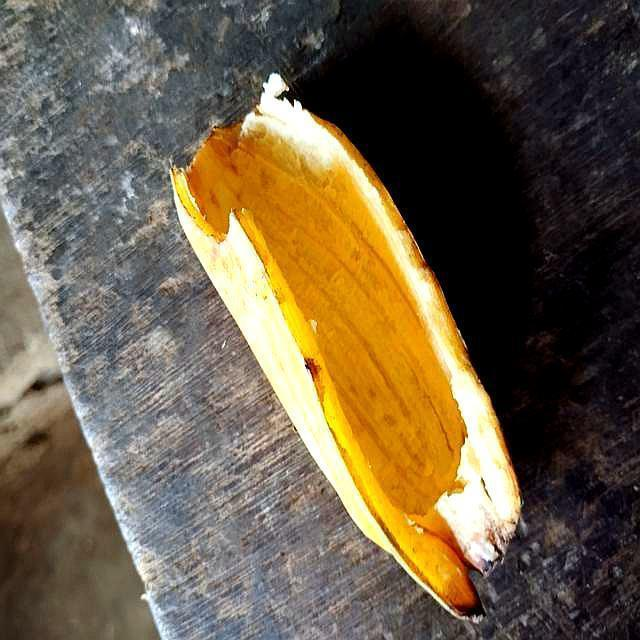Biodegradable: (132, 46, 574, 640)
